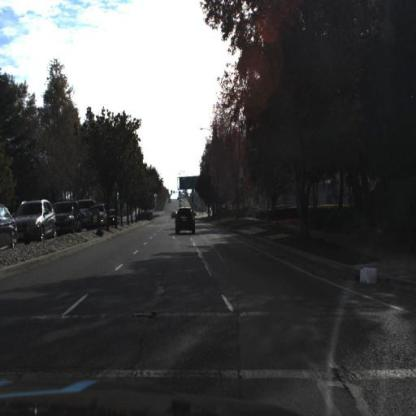car: (19, 200, 57, 246), (51, 200, 85, 237), (1, 202, 20, 253), (58, 201, 81, 237), (175, 208, 197, 237), (82, 200, 100, 230), (171, 211, 178, 222)
